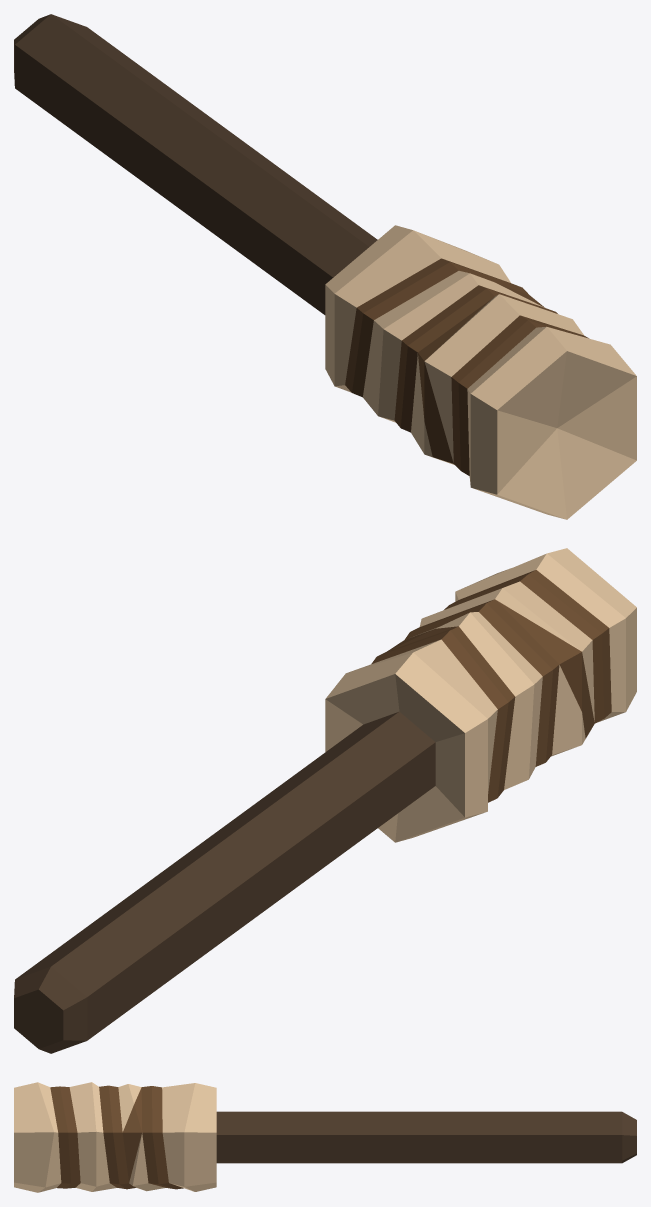
File: SM_Drum_Stick_Orc.fbx
3 views of the same model, one above another, from view 1: azimuth 30°, elevation 25°; view 2: azimuth 150°, elevation 25°; view 3: azimuth 270°, elevation 25° (orthographic). The views are drawn at different scales.
Parts seen in each view (by area): view 1: SM_Drum_Stick_Orc; view 2: SM_Drum_Stick_Orc; view 3: SM_Drum_Stick_Orc.
Boxes of the visible parts, x1,y1,x2,y2 form: SM_Drum_Stick_Orc: (14,14,636,519); SM_Drum_Stick_Orc: (14,548,636,1053); SM_Drum_Stick_Orc: (14,1082,636,1192).
Size of the model in its own units: 0.1341 by 0.1537 by 0.7845.
